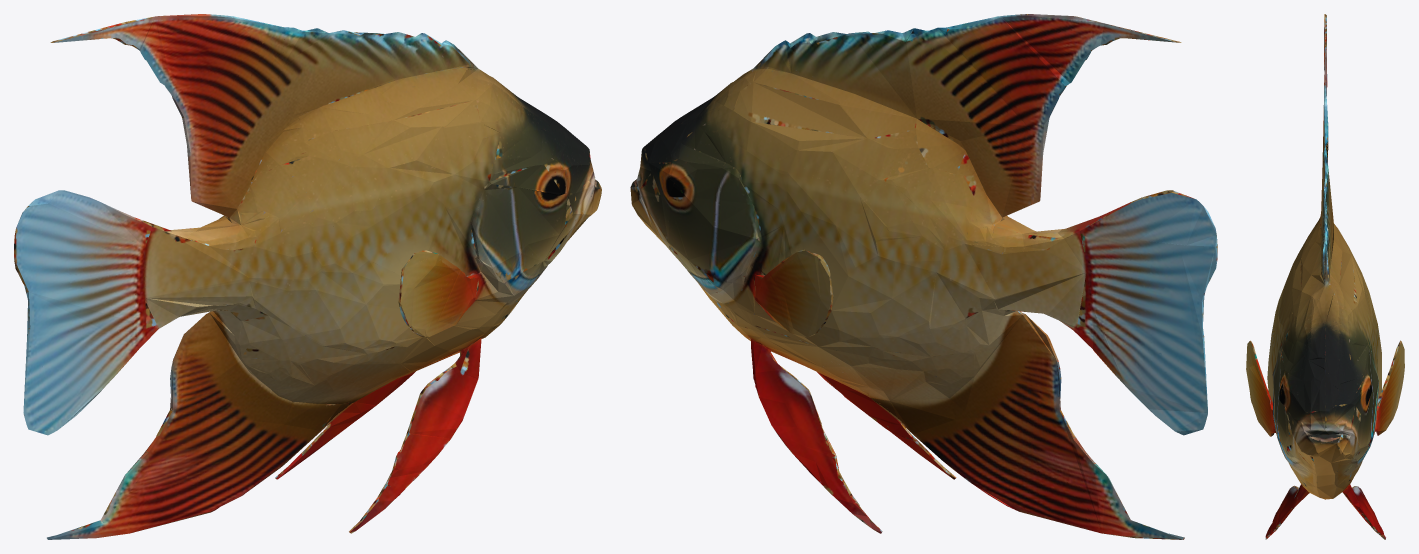
File: fish_0067_smpl23_resized.glb
The picture shows the model from 3 angles, left to right: view 1: azimuth 30°, elevation 25°; view 2: azimuth 150°, elevation 25°; view 3: azimuth 270°, elevation 25°; orthographic projection. The views are drawn at different scales.
Parts seen in each view (by area): view 1: world; view 2: world; view 3: world.
Boxes of the visible parts, box(x1,y1,x2,y2) form: world: box(14, 14, 601, 539); world: box(630, 14, 1217, 539); world: box(1246, 14, 1404, 539).
Bounding box in the file's own units: 1.99 × 1.73 × 0.5868.
1 material, 1 textured.
